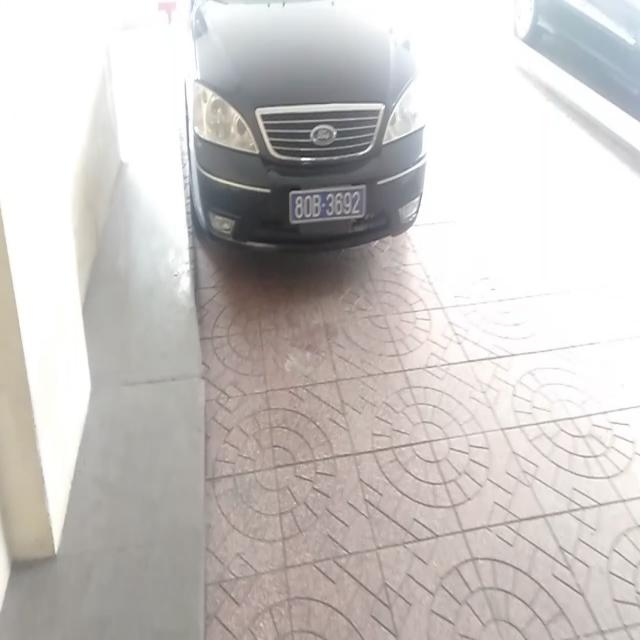bien_xanh: (290, 189, 374, 231)
